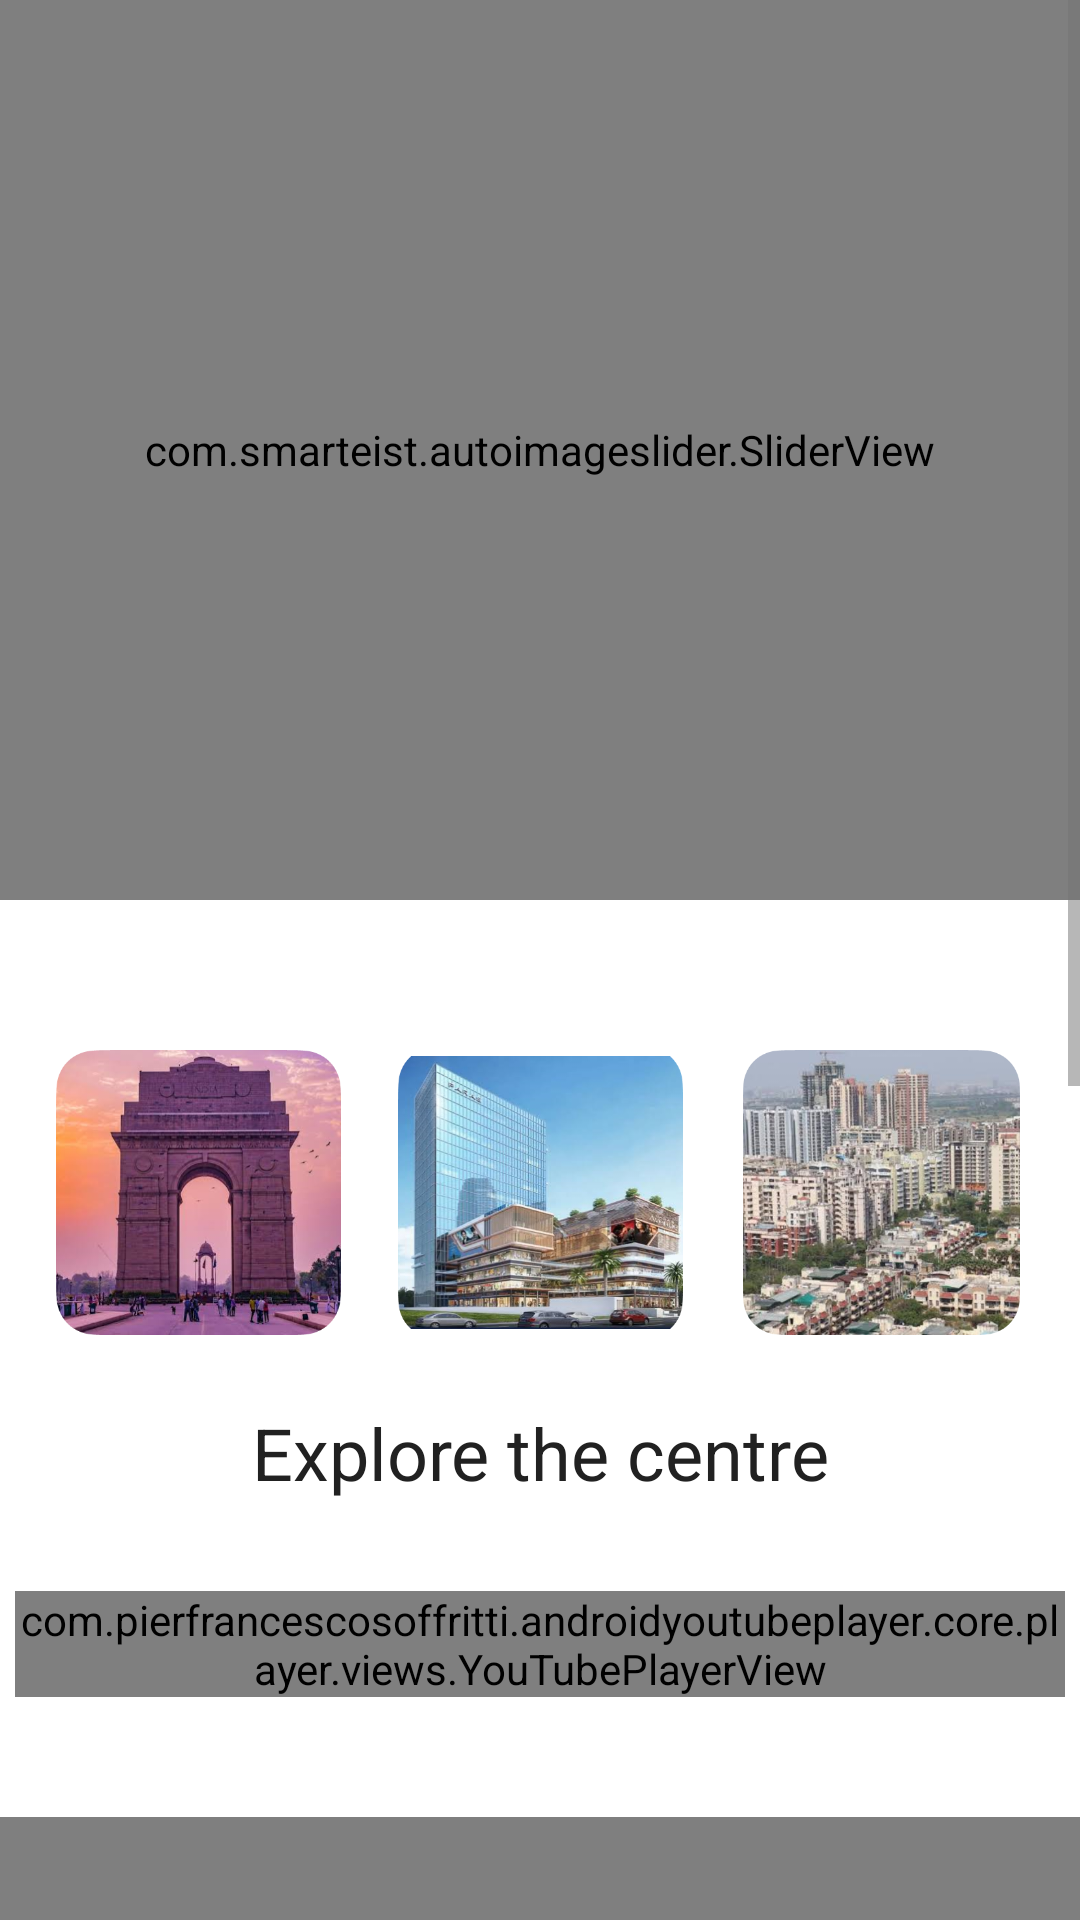

Point at icon controls on the screen. Image size 1080*1920, points as [x,y].
offline delhi: [198,1192]
